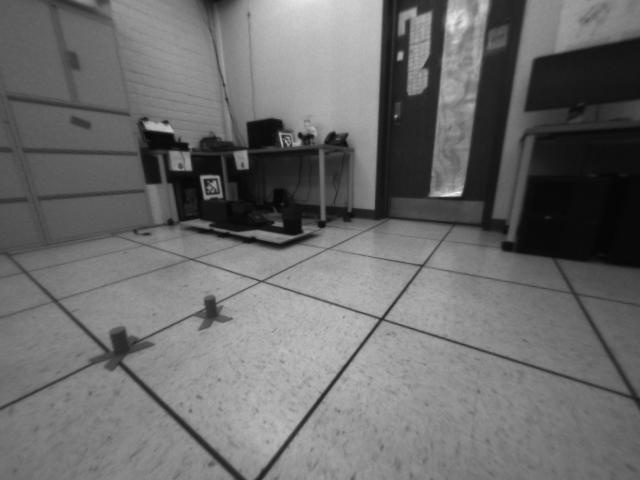X: (89, 325, 155, 371), (193, 293, 233, 332)
